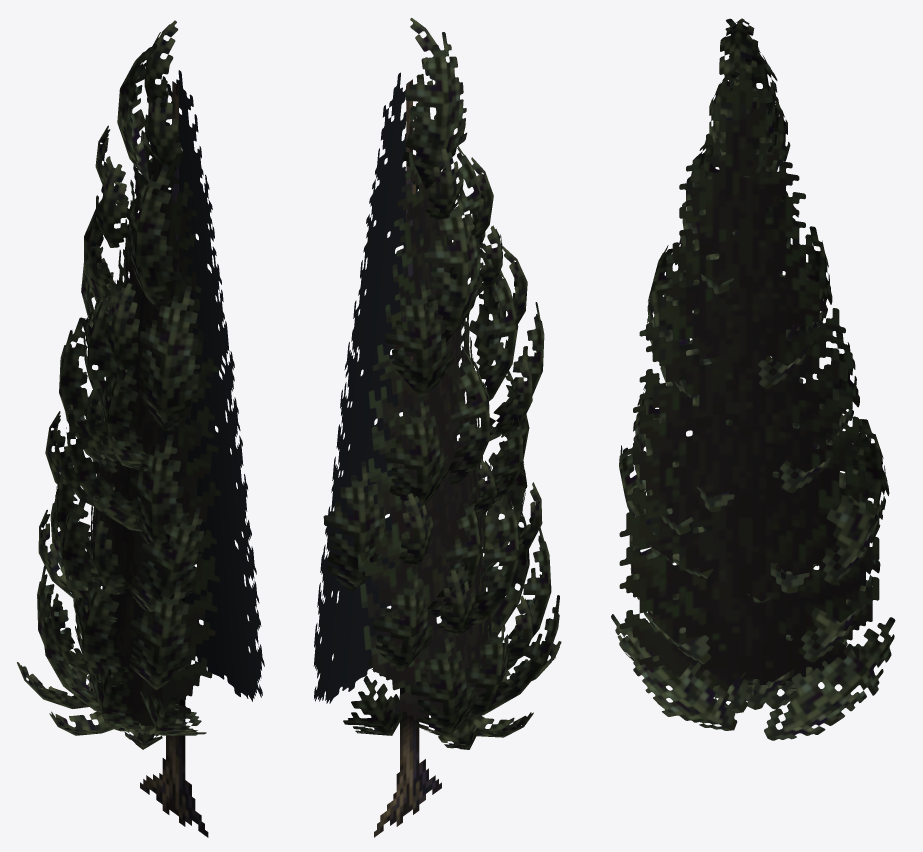
File: EnvFldMD_Tree_I_M_Painted.FBX
3 views of the same model, side by side, from view 1: azimuth 30°, elevation 25°; view 2: azimuth 150°, elevation 25°; view 3: azimuth 270°, elevation 25° (orthographic). The views are drawn at different scales.
Parts seen in each view (by area): view 1: EnvFldMD_Tree_I_M_Painted; view 2: EnvFldMD_Tree_I_M_Painted; view 3: EnvFldMD_Tree_I_M_Painted.
Boxes of the visible parts, <box> form: EnvFldMD_Tree_I_M_Painted: <box>17,20,264,837</box>; EnvFldMD_Tree_I_M_Painted: <box>313,18,561,837</box>; EnvFldMD_Tree_I_M_Painted: <box>611,18,895,740</box>.
Size of the model in its own units: 167 by 681 by 238.
2 materials, 2 textured.
